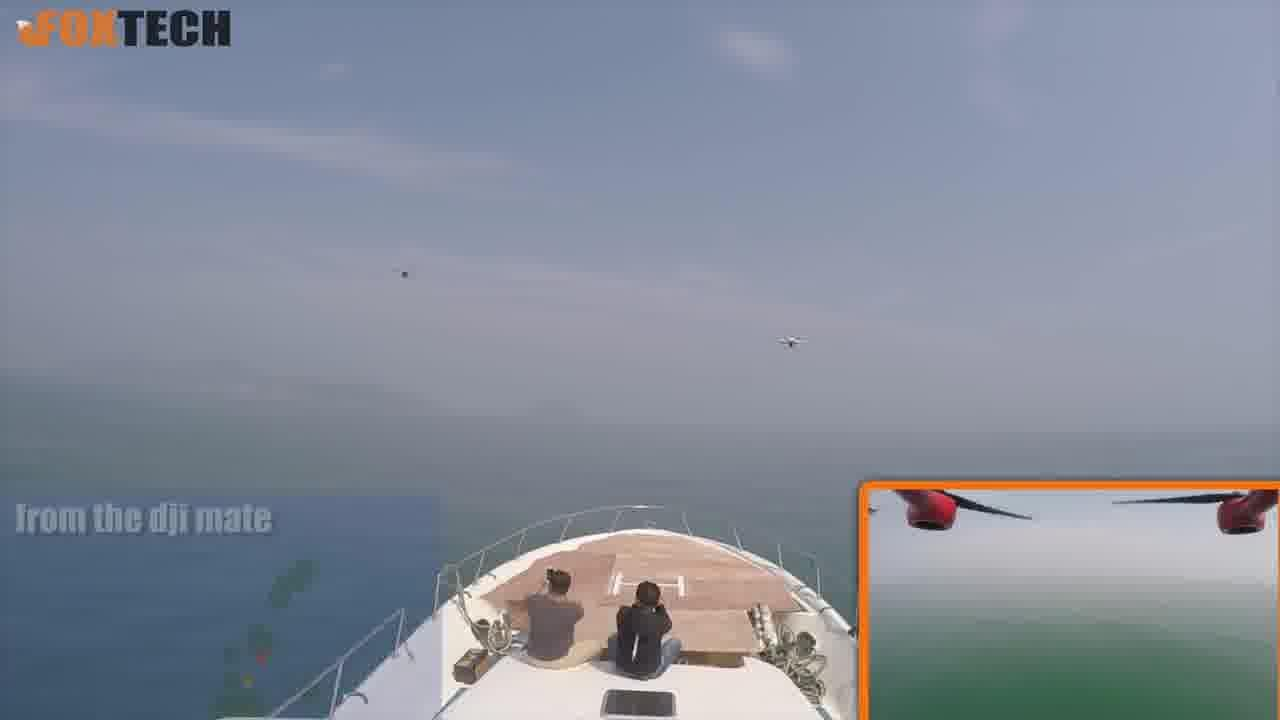drone: (769, 325, 814, 360)
